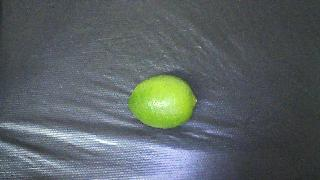LOCAL: (128, 75, 197, 129)
